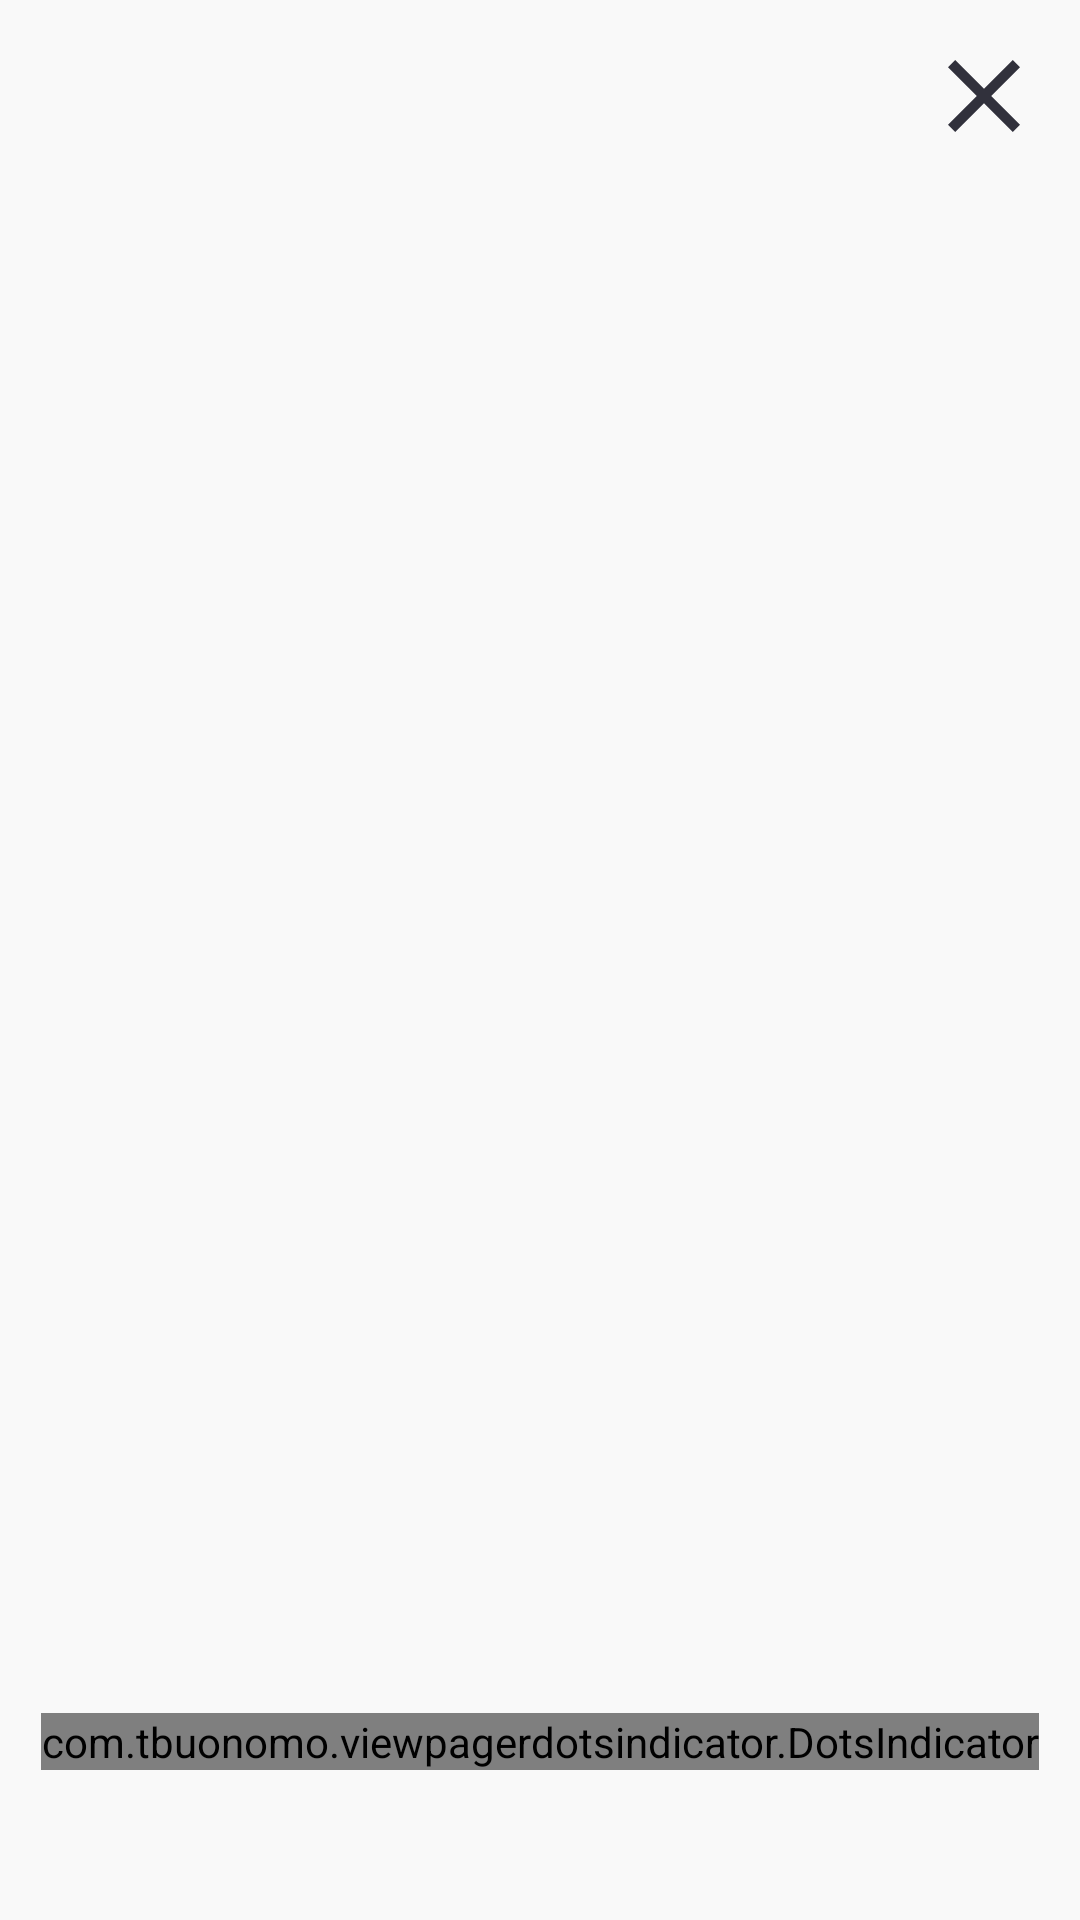

Icons on this 1080w x 1920h Android screen, each with its box as (x1,y1,x2,y2):
close: (948,60,1020,132)
